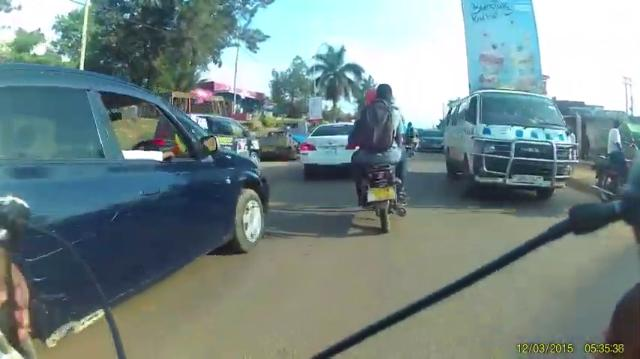car: (0, 65, 276, 355), (295, 123, 355, 173)
motorcycle: (352, 81, 414, 235)
van: (443, 87, 578, 200)
